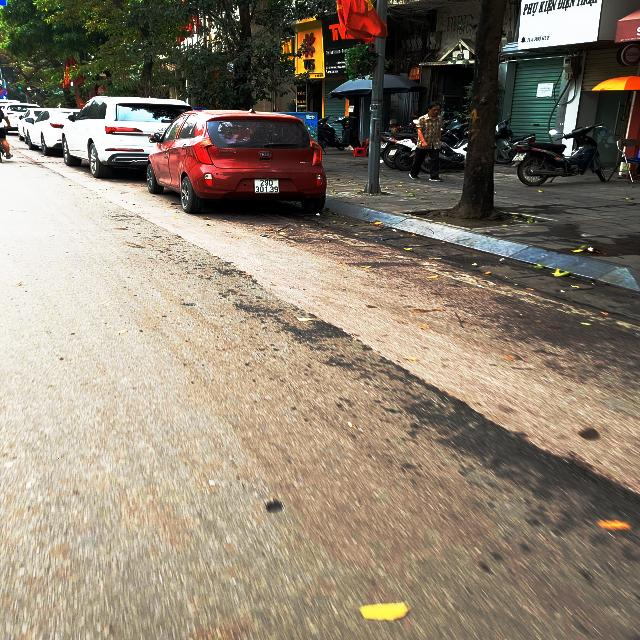license_plate: (254, 179, 281, 195)
